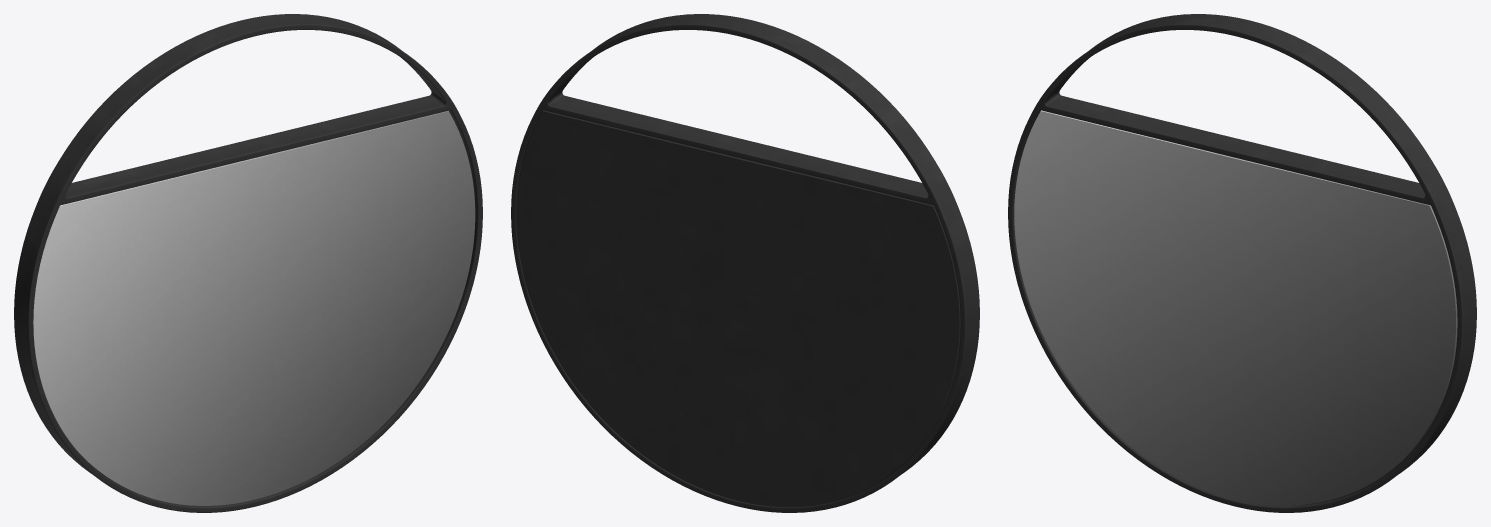
The model's file is abo-B084HV6KDV.glb.
3 views of the same model, side by side, from view 1: azimuth 30°, elevation 25°; view 2: azimuth 150°, elevation 25°; view 3: azimuth 330°, elevation 25° (orthographic).
Bounding box in the file's own units: 0.565 × 0.565 × 0.032.
1 material, 1 textured.
